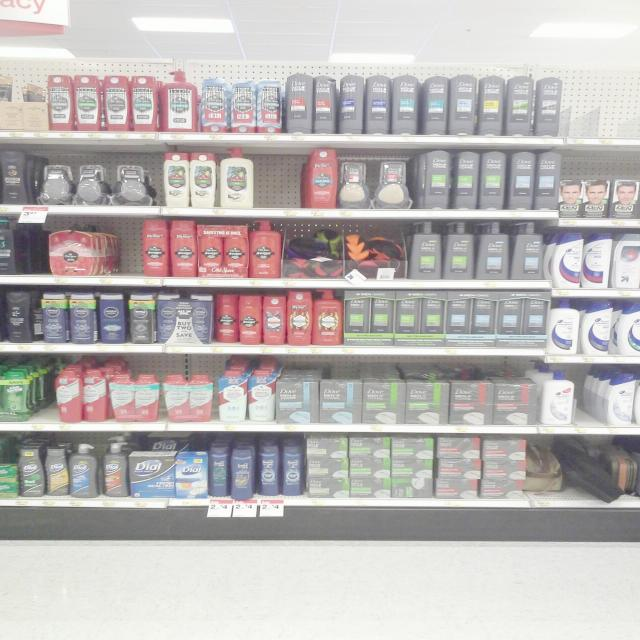empty_space: (568, 81, 640, 139), (258, 151, 304, 206), (35, 371, 65, 422), (110, 227, 144, 269), (26, 241, 50, 273)
